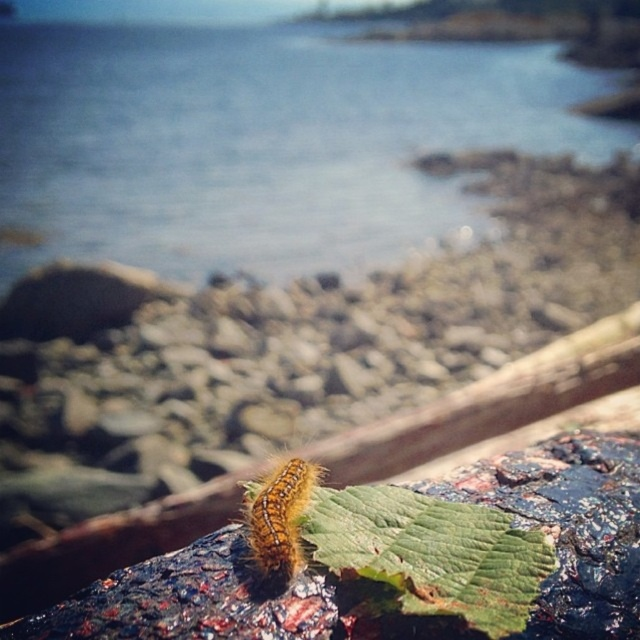Caterpillar: (242, 456, 332, 569)
